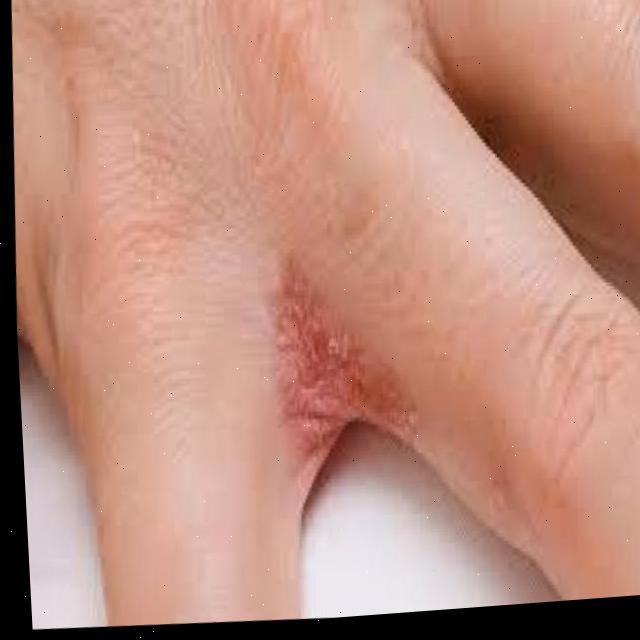Eczema: (282, 257, 390, 405)
